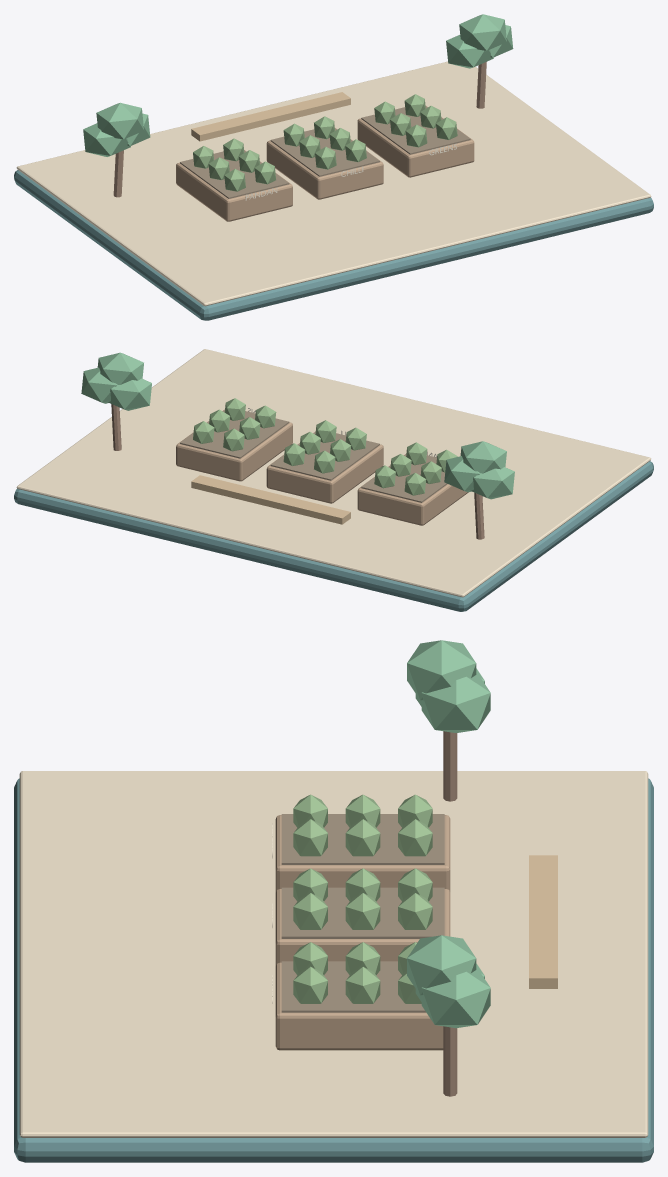
The model's file is garden.glb.
The picture shows the model from 3 angles, top to bottom: view 1: azimuth 30°, elevation 25°; view 2: azimuth 150°, elevation 25°; view 3: azimuth 270°, elevation 25°; orthographic projection. The views are drawn at different scales.
Parts seen in each view (by area): view 1: Paving, Stage base, Raised bed.001, Raised bed.002, Raised bed, Community bench, Garden soil.001, Garden soil.002, Garden soil, Rain tree canopy.002, Rain tree canopy.005, Rain tree canopy (+1 smaller); view 2: Paving, Stage base, Raised bed.001, Raised bed.002, Raised bed, Community bench, Garden soil.001, Garden soil.002, Garden soil, Rain tree canopy.002, Rain tree canopy.005, Rain tree canopy (+11 smaller); view 3: Paving, Stage base, Raised bed.002, Garden soil.001, Garden soil, Community bench, Garden soil.002, Raised bed, Rain tree canopy.001, Rain tree canopy.004, Rain tree canopy.002, Rain tree canopy.005 (+19 smaller).
Part boxes in pixels (x1,y1,x2,y2): Paving: [16, 61, 651, 306]; Stage base: [14, 170, 653, 320]; Raised bed.001: [266, 127, 383, 199]; Raised bed.002: [357, 106, 474, 177]; Raised bed: [176, 150, 292, 221]; Community bench: [191, 92, 350, 141]; Garden soil.001: [270, 128, 379, 176]; Garden soil.002: [361, 106, 470, 154]; Garden soil: [180, 150, 289, 198]; Rain tree canopy.002: [96, 102, 143, 139]; Rain tree canopy.005: [459, 14, 506, 51]; Rain tree canopy: [83, 123, 130, 156]; Paving: [16, 349, 651, 597]; Stage base: [14, 461, 653, 611]; Raised bed.001: [266, 431, 383, 503]; Raised bed.002: [176, 409, 292, 481]; Raised bed: [357, 454, 468, 525]; Community bench: [191, 475, 350, 524]; Garden soil.001: [270, 432, 379, 480]; Garden soil.002: [180, 410, 289, 458]; Garden soil: [361, 454, 447, 502]; Rain tree canopy.002: [460, 441, 506, 473]; Rain tree canopy.005: [97, 352, 143, 384]; Rain tree canopy: [470, 467, 514, 499]; Paving: [19, 771, 648, 1137]; Stage base: [14, 778, 653, 1162]; Raised bed.002: [275, 962, 443, 1050]; Garden soil.001: [281, 887, 444, 938]; Garden soil: [281, 814, 444, 864]; Community bench: [529, 855, 557, 988]; Garden soil.002: [281, 961, 425, 1012]; Raised bed: [275, 815, 450, 892]; Rain tree canopy.001: [421, 673, 490, 732]; Rain tree canopy.004: [421, 968, 490, 1028]; Rain tree canopy.002: [407, 640, 476, 700]; Rain tree canopy.005: [407, 935, 476, 995].
Bounding box in the file's own units: 15 × 3.7 × 11.
